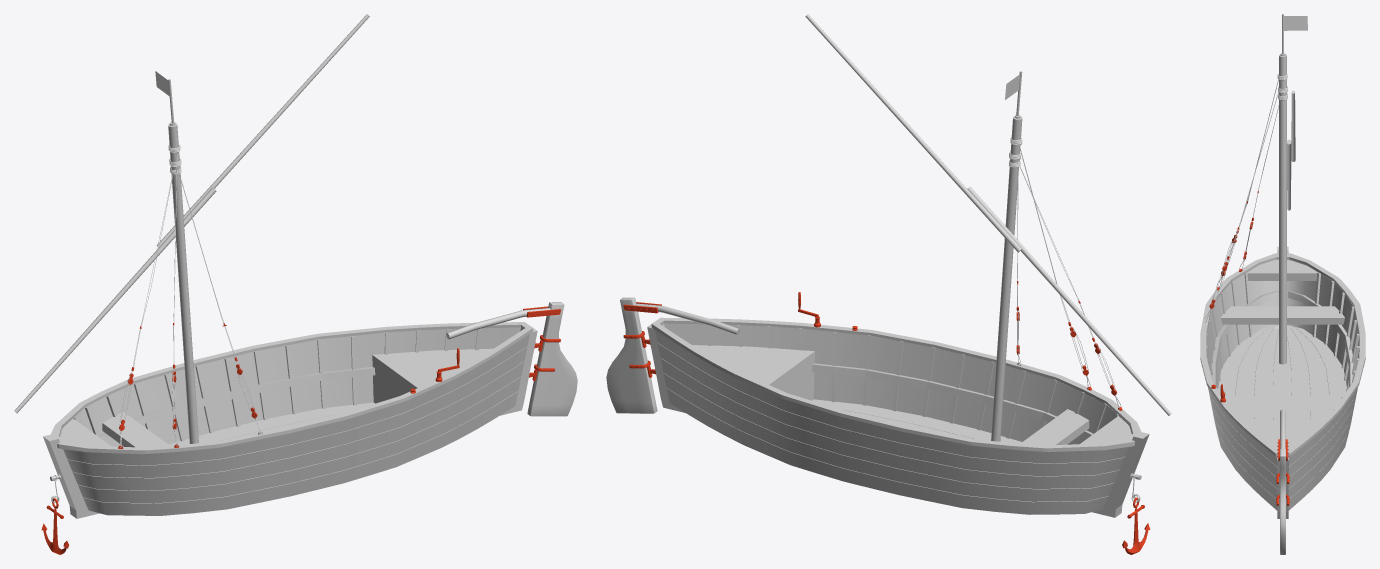
File: final boat - joined.fbx
3 renders of one model, left to right at view 1: azimuth 30°, elevation 25°; view 2: azimuth 150°, elevation 25°; view 3: azimuth 270°, elevation 25°, orthographic. The views are drawn at different scales.
Parts seen in each view (by area): view 1: hull, mast 1, rudder, mast 2; view 2: hull, mast 1, rudder, mast 2; view 3: hull, mast 1, rudder, mast 2, flag cloth.
Part boxes in pixels (x1,y1,x2,y2): hull: (43,322,537,518); mast 1: (119,122,261,447); rudder: (446,302,577,416); mast 2: (14,14,369,413); hull: (647,317,1149,517); mast 1: (991,115,1121,441); rudder: (606,297,739,413); mast 2: (805,14,1171,415); hull: (1200,246,1365,518); mast 1: (1204,53,1287,364); rudder: (1277,409,1288,554); mast 2: (1286,90,1295,210); flag cloth: (1284,16,1307,30).
Bounding box in the file's own units: 680 × 532 × 202.
